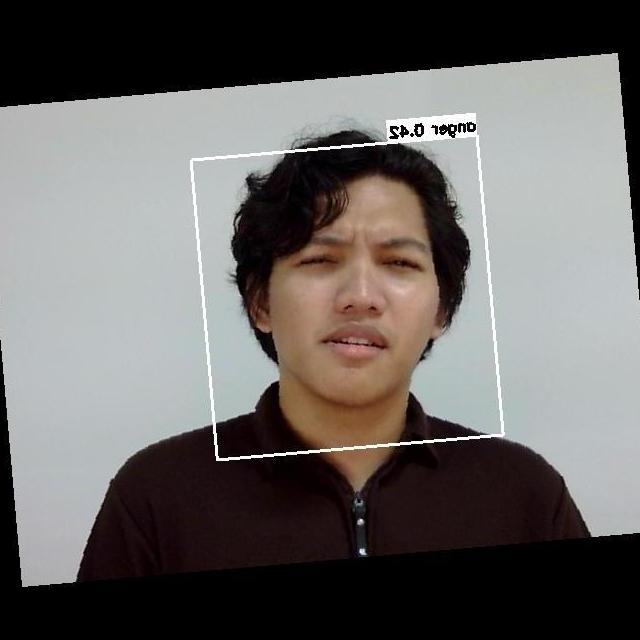Sad: (256, 195, 454, 388)
